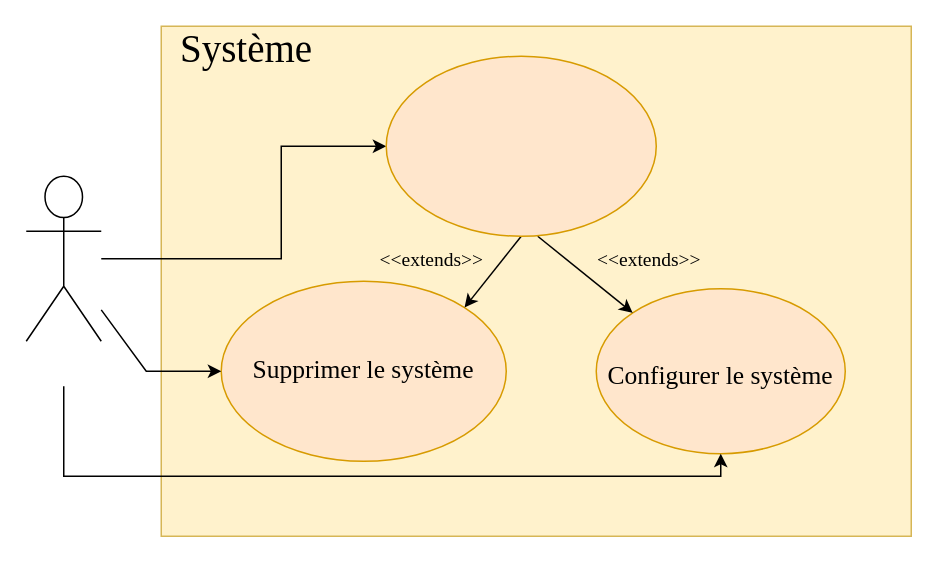
Some shapes in this 938 by 563 pixel diagram are drawn without their labels. Here are the shapes that lost their labels. From the top down, the centre of each, then its label:
the point at 520,145: Déployer le système
the point at 63,258: Admin
